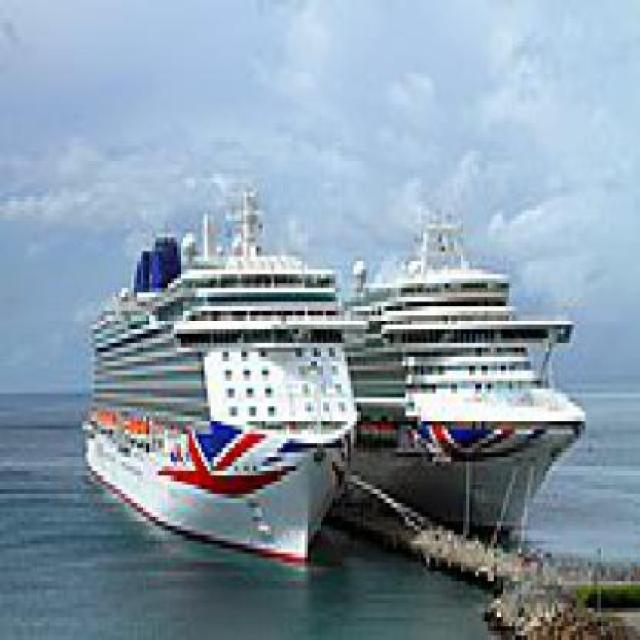cruise: (74, 174, 370, 577), (336, 207, 596, 581)
